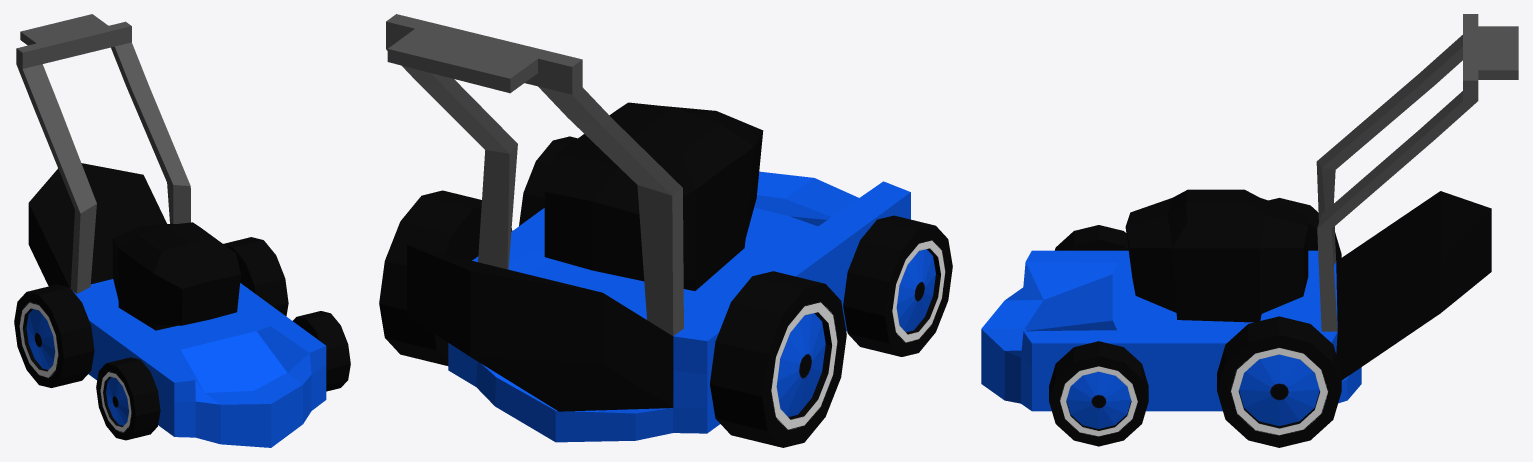
Rendered from CortadoradepastoModeloazul.glb.
3 views of the same model, side by side, from view 1: azimuth 30°, elevation 25°; view 2: azimuth 150°, elevation 25°; view 3: azimuth 270°, elevation 25° (orthographic). The views are drawn at different scales.
Visible parts, largest first — view 1: Maquina, Rueda delantera.006, Rueda delantera; view 2: Maquina, Rueda delantera.006, Rueda delantera; view 3: Maquina, Rueda delantera.006, Rueda delantera.
Boxes of the visible parts, x1,y1,x2,y2 form: Maquina: [16, 14, 326, 447]; Rueda delantera.006: [14, 237, 288, 387]; Rueda delantera: [96, 311, 350, 440]; Maquina: [386, 14, 910, 442]; Rueda delantera.006: [379, 190, 846, 447]; Rueda delantera: [519, 136, 952, 356]; Maquina: [981, 14, 1518, 411]; Rueda delantera.006: [1217, 198, 1341, 447]; Rueda delantera: [1049, 225, 1148, 446].
Bounding box in the file's own units: 2.98 × 3.37 × 4.89.
Materials: 2 (2 with a texture image).
